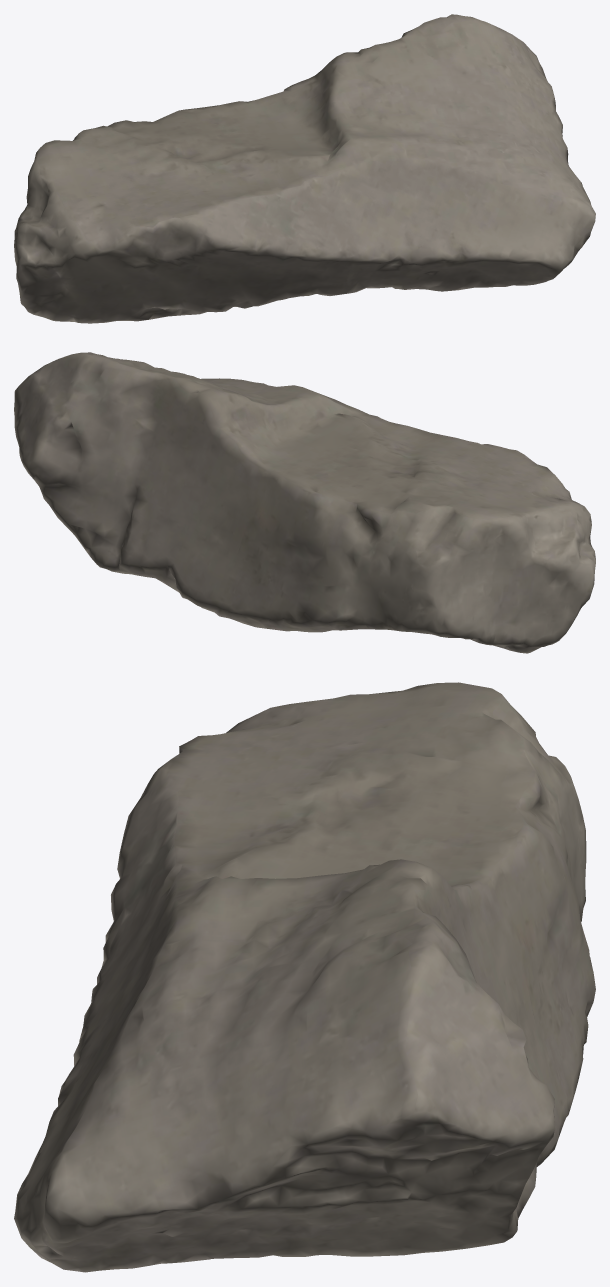
The model's file is moon-rocks.glb.
3 renders of one model, top to bottom at view 1: azimuth 30°, elevation 25°; view 2: azimuth 150°, elevation 25°; view 3: azimuth 270°, elevation 25°, orthographic. The views are drawn at different scales.
Parts seen in each view (by area): view 1: moon_rock_01_LOD0; view 2: moon_rock_01_LOD0; view 3: moon_rock_01_LOD0.
Part boxes in pixels (bbox=[...]): moon_rock_01_LOD0: bbox=[14, 14, 595, 323]; moon_rock_01_LOD0: bbox=[14, 352, 595, 653]; moon_rock_01_LOD0: bbox=[14, 682, 595, 1272].
Size of what is drawn, in the model's own units: 0.2121 by 0.0751 by 0.1116.
1 material, 1 textured.
